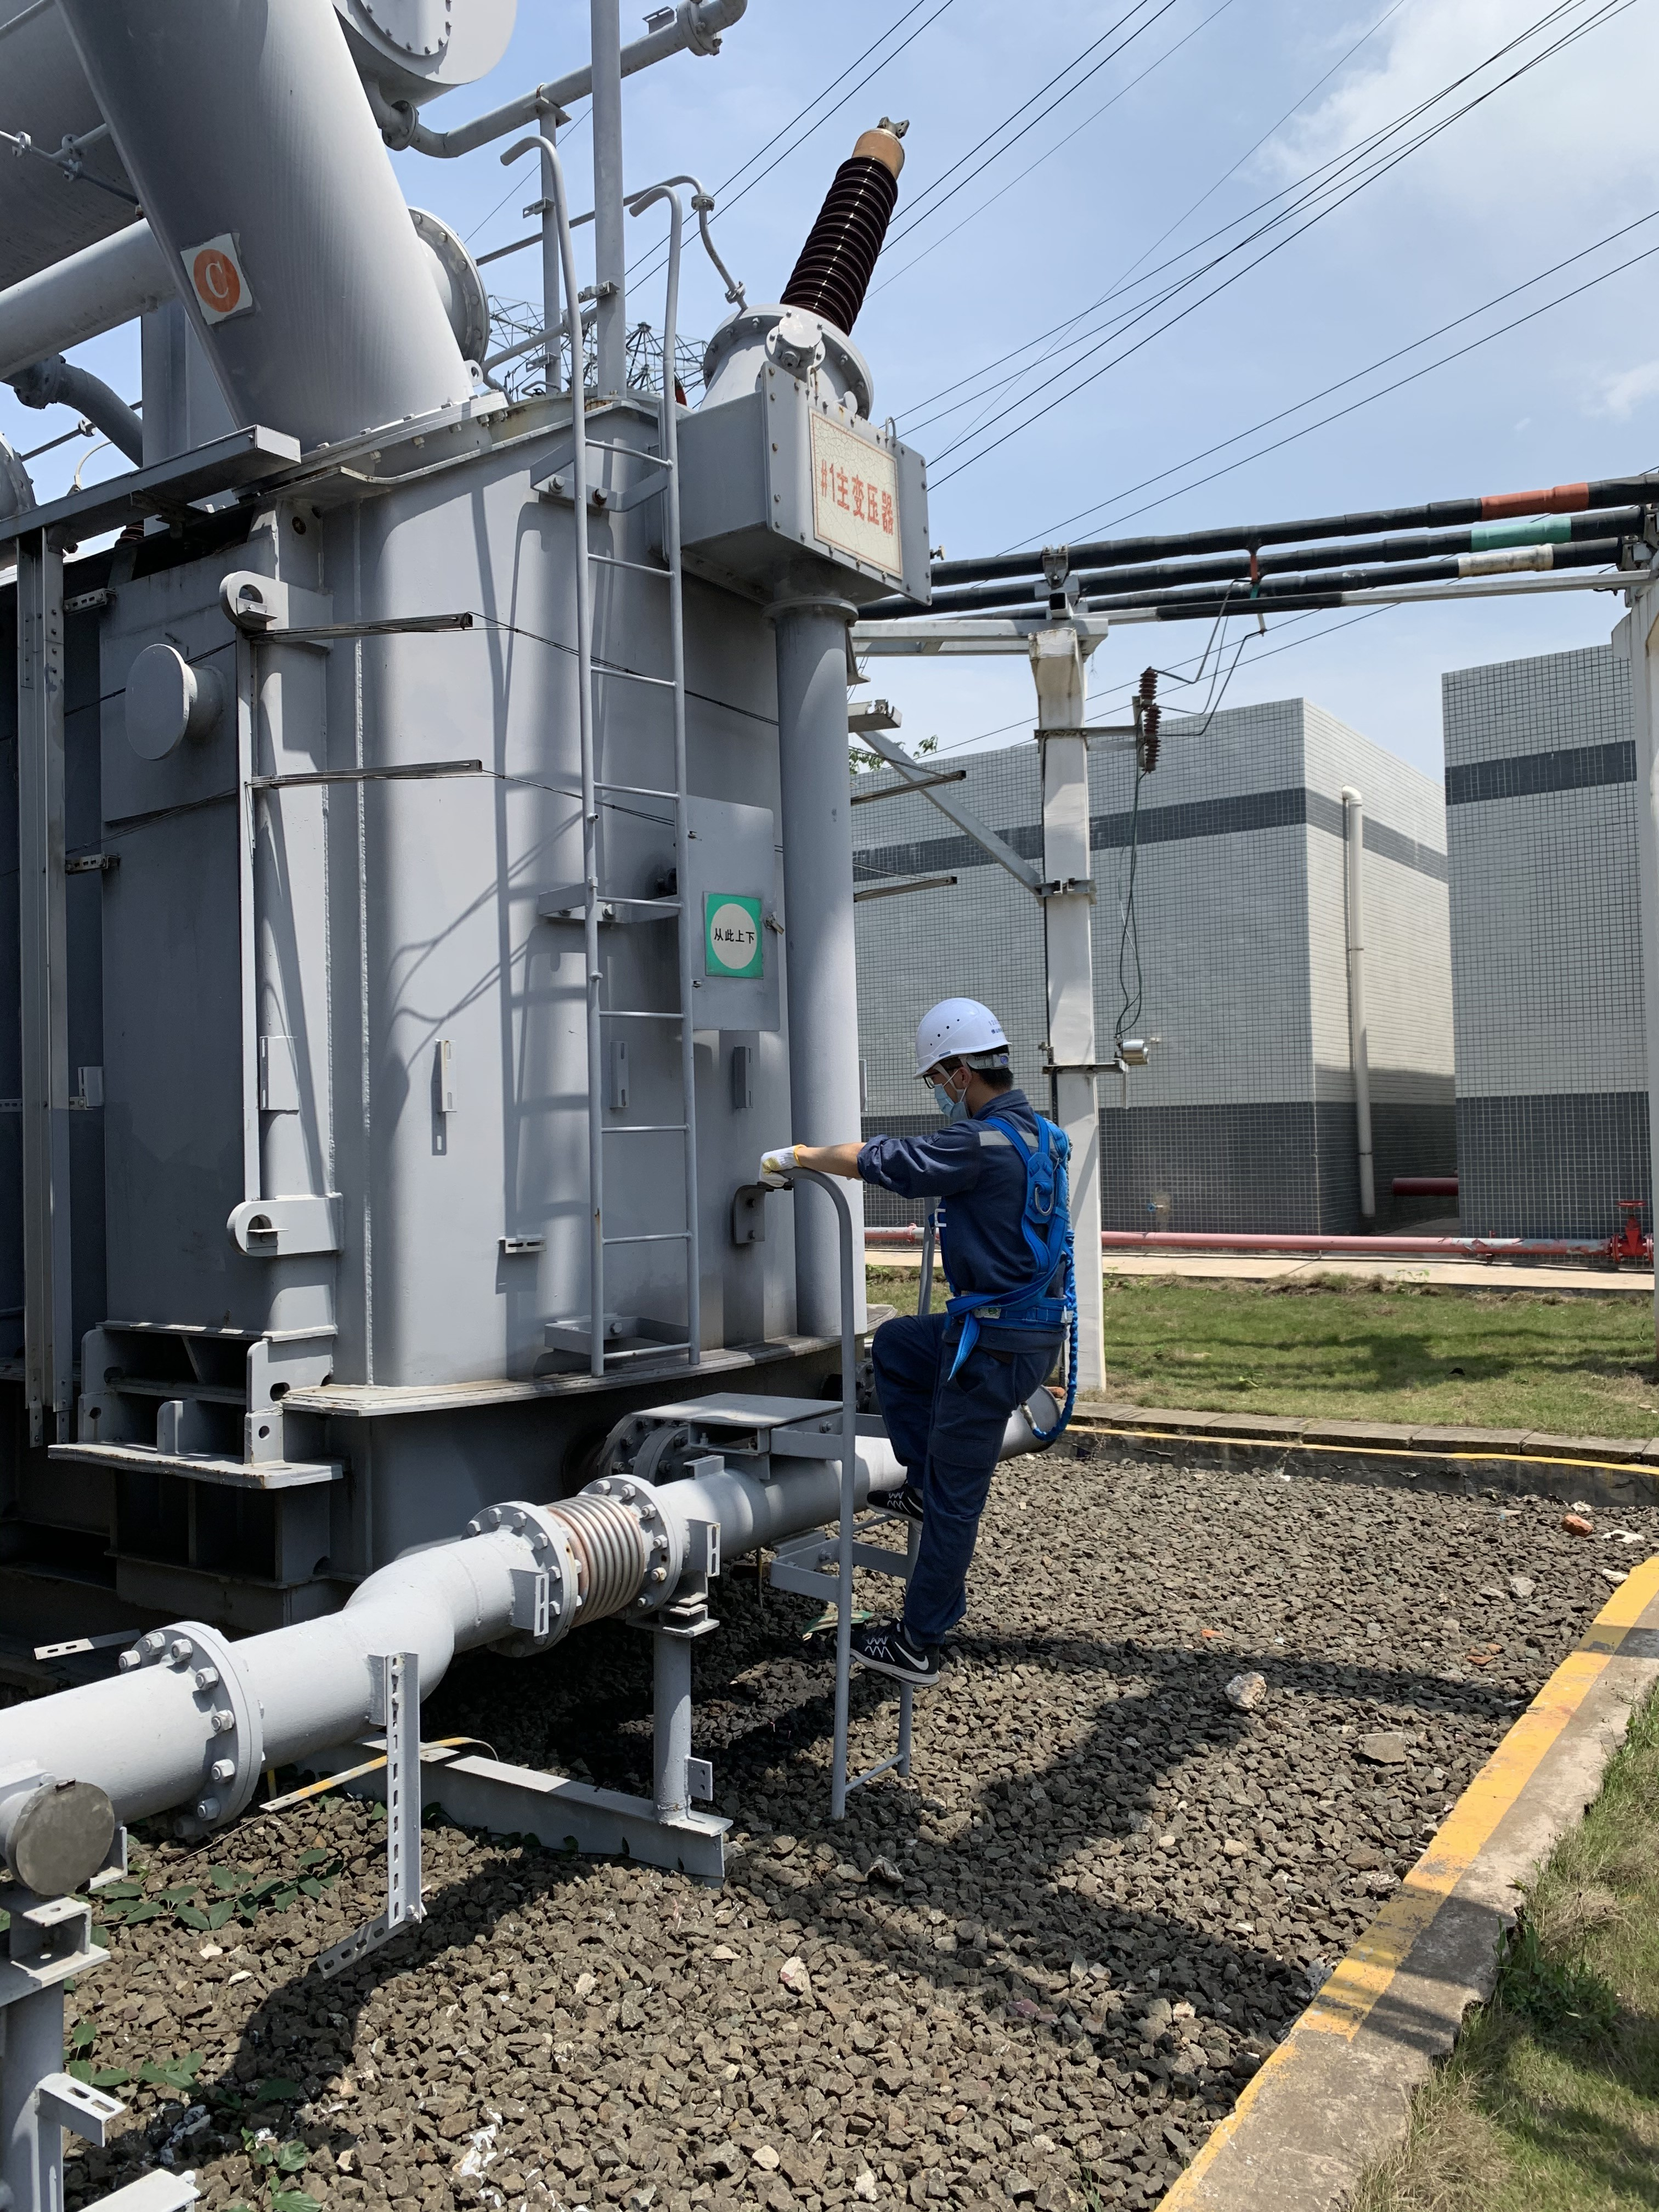downsuit: (868, 1339, 1066, 1634)
upsuit: (863, 1097, 1080, 1318)
wrongtop: (775, 1136, 908, 1193)
